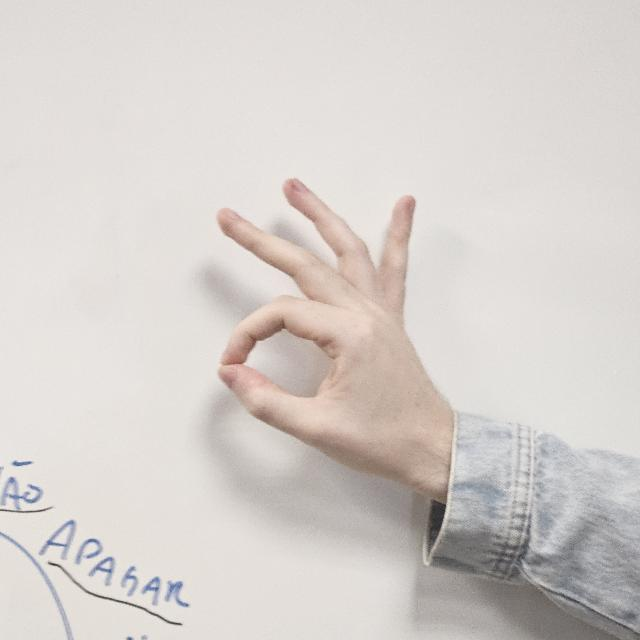Bolinha: (199, 152, 453, 544)
